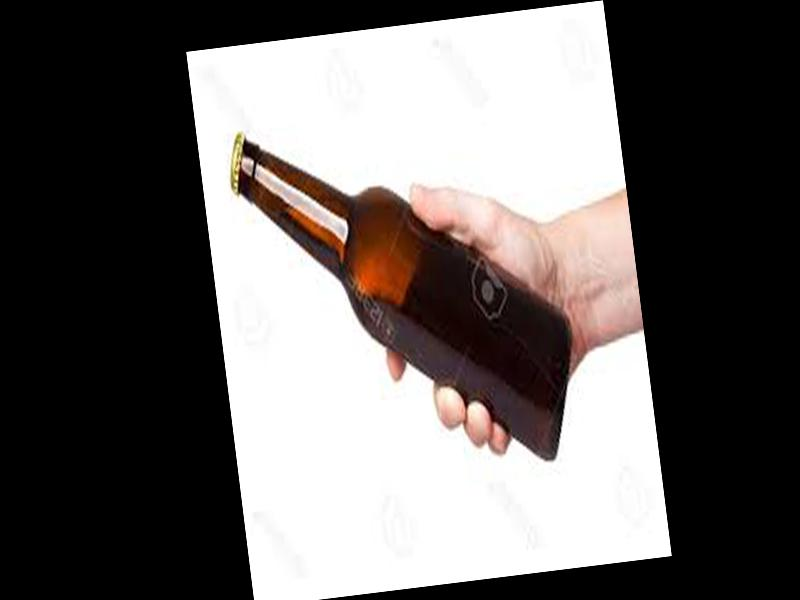Beer: (225, 94, 584, 492)
